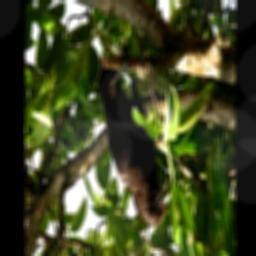Crow: (97, 54, 174, 232)
